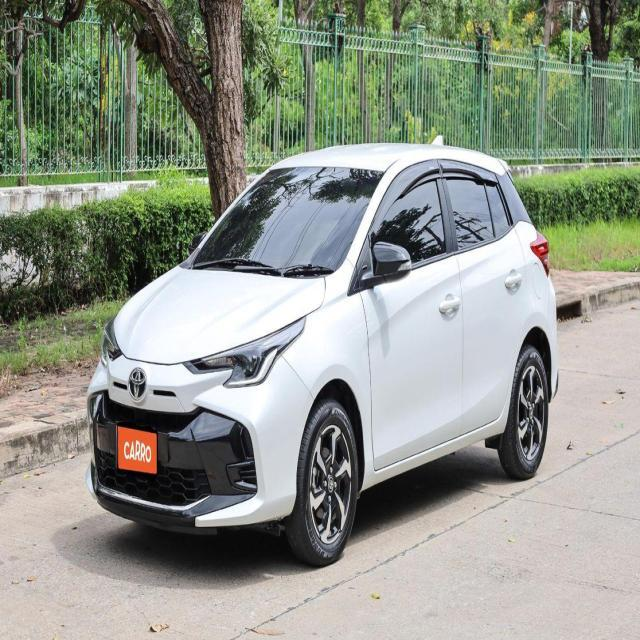Hatchback: (86, 143, 561, 570)
